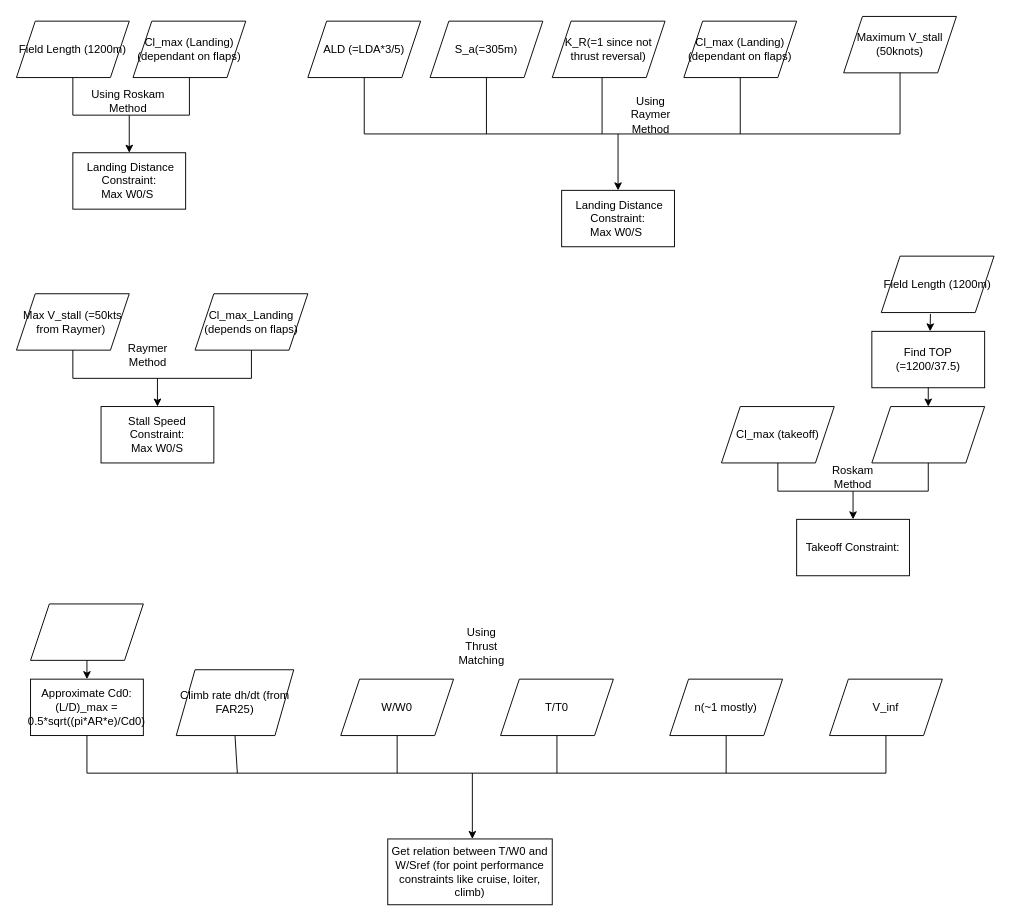
Some shapes in this 1011 by 921 pixel diagram are drawn without their labels. The centre of each missing label's shape, as x and y in pixels:
"Input: AR, e, (L/D)_max." belongs at (86,631).
"TOP" belongs at (928,434).
